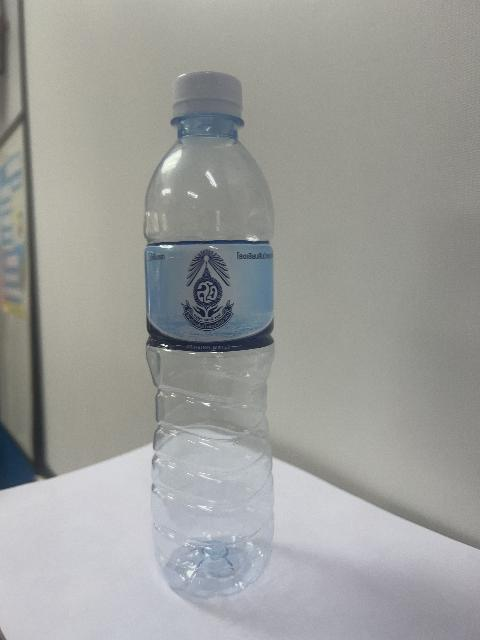bottle: (145, 73, 273, 596)
